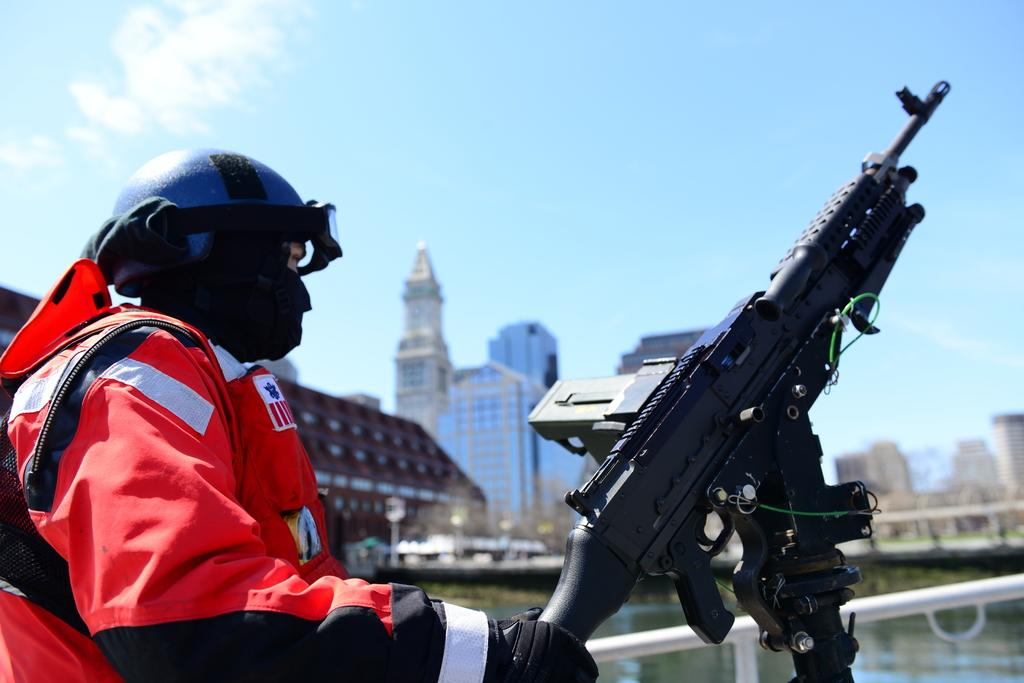Rifle: (504, 109, 933, 680)
